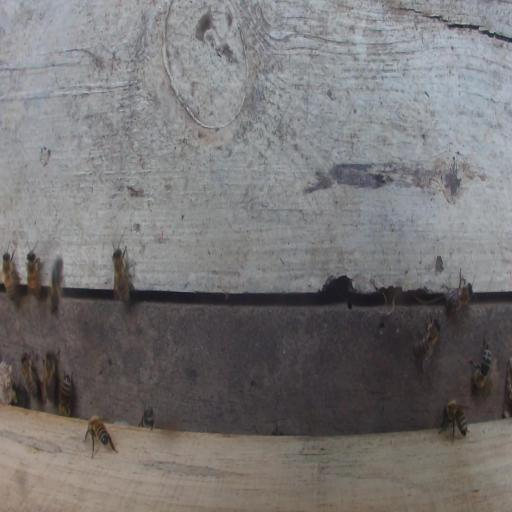nonpollenbee: (413, 310, 441, 372), (83, 414, 119, 458), (445, 267, 474, 320), (111, 244, 133, 310), (468, 333, 492, 389), (443, 399, 470, 443), (0, 250, 20, 306), (41, 348, 61, 403), (19, 352, 41, 400), (24, 250, 44, 301), (50, 257, 64, 314), (59, 366, 74, 417), (138, 402, 155, 431)
